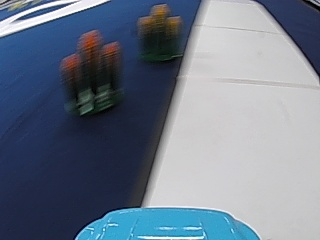corn: (59, 26, 121, 119), (137, 1, 185, 62)
